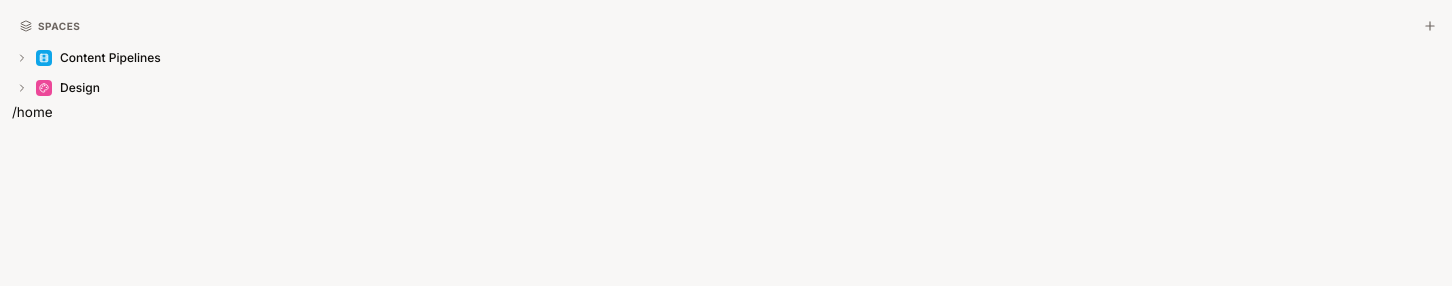
SpacesTree: hierarchy and navigation › renders spaces collapsed, then expands folders and lists on demand
Expected: the text "Content Pipelines" is shown, [60,50,161,66]
Expected: the text "Design" is shown, [60,80,100,96]
Click the button named "Expand Content Pipelines".
click(22, 58)  # box [12,46,32,70]
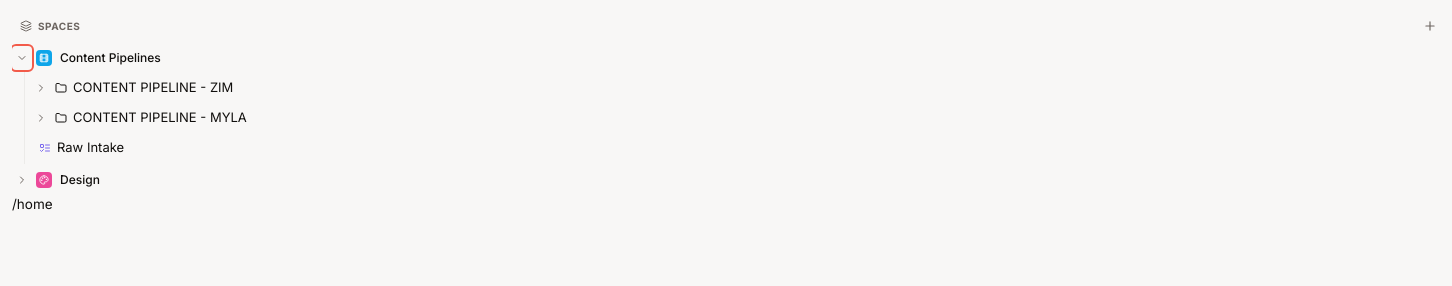
Expected: the text "25. EDAPTX" is not shown
Expected: the text "CONTENT PIPELINE - ZIM" is shown, [73,78,233,98]
Expected: the text "Raw Intake" is shown, [57,138,124,158]
Click the button named "Expand CONTENT PIPELINE - ZIM".
click(41, 88)  # box [31,76,51,100]
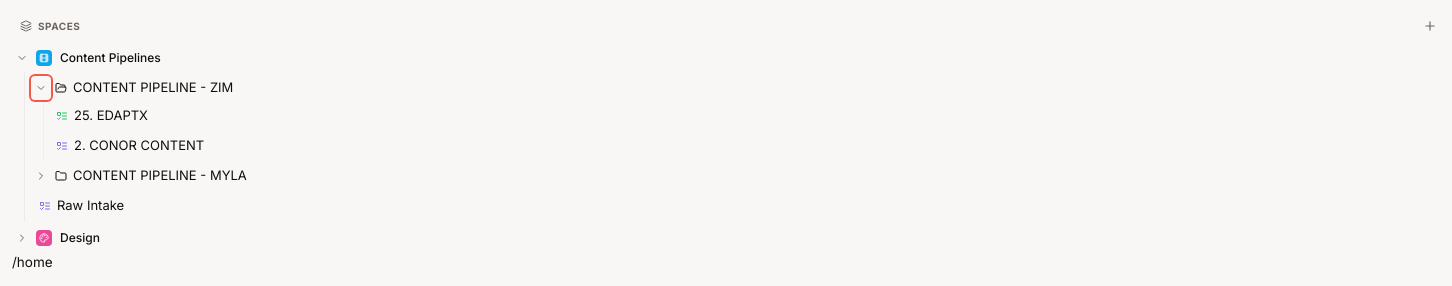
Expected: the text "25. EDAPTX" is shown, [74,106,148,126]
Expected: the text "2. CONOR CONTENT" is shown, [74,136,204,156]
Click the button named "Collapse Content Pipelines".
click(22, 58)  # box [12,46,32,70]
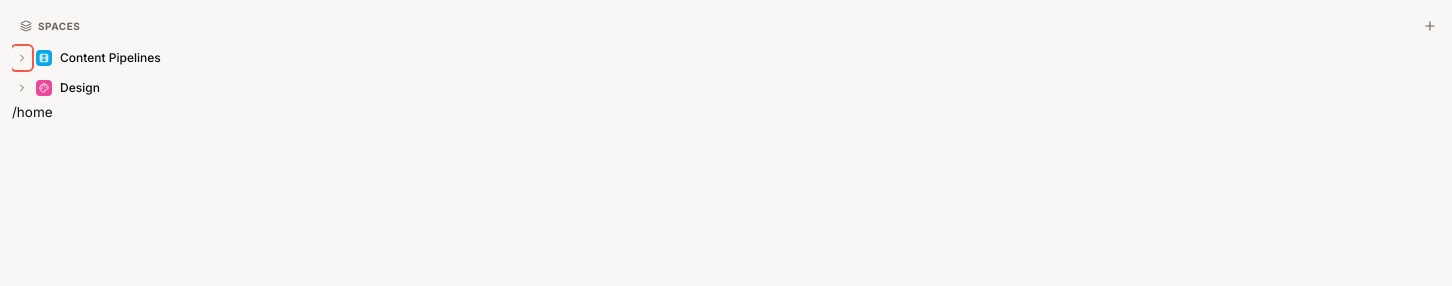
Expected: the link "CONTENT PIPELINE - ZIM" is gone
